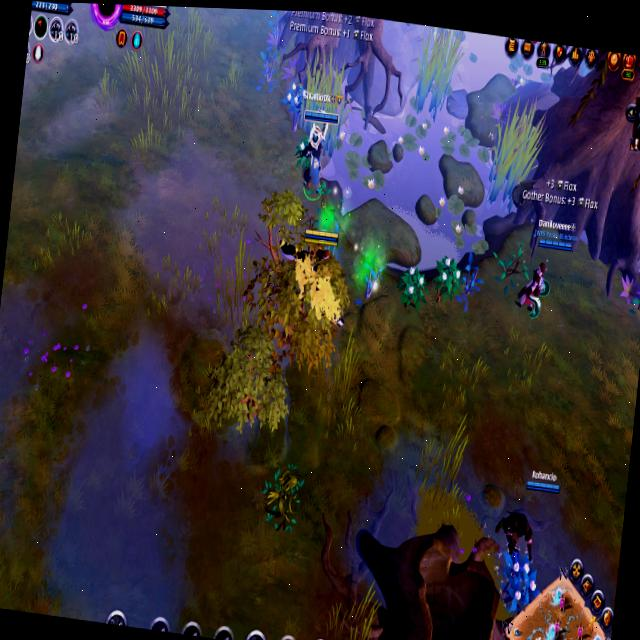hide: (494, 541, 546, 628), (427, 245, 470, 318), (390, 258, 432, 319), (288, 125, 318, 173), (282, 72, 308, 119)
red: (271, 216, 357, 337), (486, 456, 568, 575), (512, 208, 580, 329), (290, 86, 345, 209)
